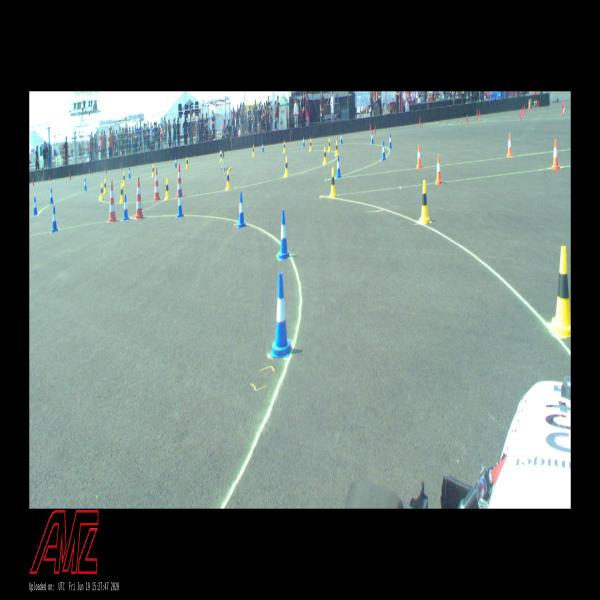blue_cone: (272, 272, 290, 357), (278, 210, 290, 259), (238, 192, 246, 228), (177, 189, 184, 217), (52, 206, 58, 231), (123, 195, 129, 220), (336, 156, 341, 178), (381, 142, 386, 160), (33, 197, 38, 215), (50, 189, 54, 204), (389, 134, 392, 148), (84, 179, 87, 190), (371, 132, 373, 145), (340, 132, 342, 144), (175, 156, 177, 167), (128, 168, 130, 178), (262, 142, 264, 152), (303, 136, 305, 146), (219, 148, 220, 158)
large_orange_cone: (135, 178, 143, 219), (109, 181, 116, 222), (176, 164, 183, 197), (154, 167, 160, 200)
orange_cone: (552, 140, 560, 170), (435, 154, 442, 184), (416, 144, 422, 168), (507, 133, 513, 157)
unknown_cone: (419, 116, 421, 129), (561, 103, 563, 115), (466, 114, 468, 124), (521, 107, 523, 117), (374, 126, 376, 134), (69, 172, 71, 180), (105, 166, 107, 174), (32, 179, 34, 186), (49, 174, 51, 181), (528, 104, 530, 110), (370, 122, 371, 132), (479, 110, 480, 120), (477, 110, 478, 118), (520, 111, 521, 119), (524, 106, 525, 114), (89, 167, 90, 173), (121, 162, 122, 168), (538, 100, 538, 107)
yellow_cone: (552, 246, 570, 336), (420, 180, 430, 224), (330, 168, 336, 197), (225, 169, 231, 190), (165, 178, 170, 200), (284, 157, 289, 176), (323, 147, 327, 165), (120, 184, 124, 202), (100, 183, 104, 200), (122, 172, 126, 185), (104, 178, 107, 194), (335, 141, 338, 156), (328, 138, 331, 152), (309, 138, 312, 151), (283, 141, 286, 152), (186, 157, 189, 168), (252, 146, 255, 156), (152, 164, 154, 177), (220, 151, 222, 162)
